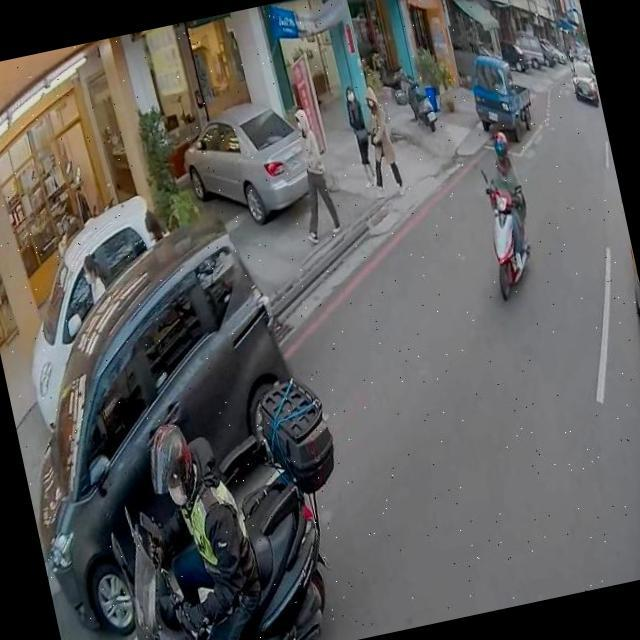person: (123, 398, 276, 640), (276, 98, 347, 248), (471, 129, 538, 278), (350, 80, 407, 200), (339, 84, 382, 190), (74, 248, 109, 308), (137, 199, 170, 248)
